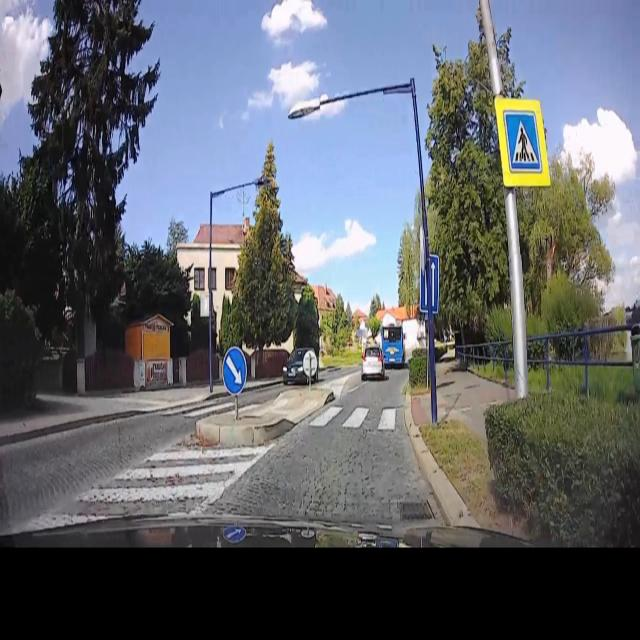Pedestrian crosswalk: (304, 394, 410, 434), (165, 393, 249, 421), (505, 108, 540, 174)
